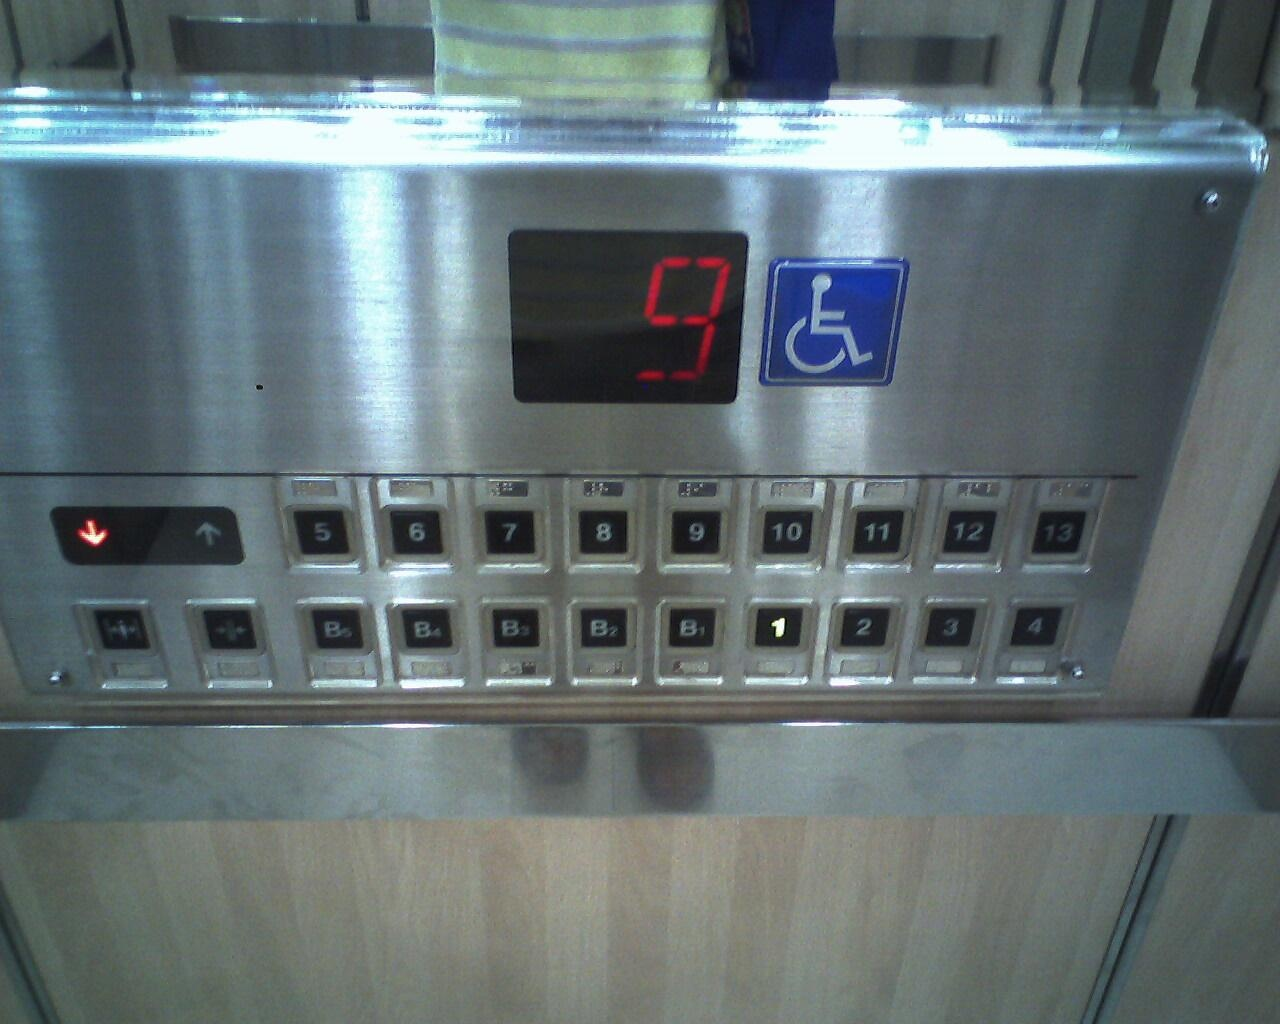1: (753, 605, 804, 649)
10: (758, 506, 816, 556)
11: (850, 506, 905, 555)
12: (940, 507, 997, 555)
13: (1027, 508, 1090, 556)
2: (839, 605, 890, 648)
3: (922, 604, 977, 648)
4: (1007, 603, 1066, 648)
5: (290, 507, 352, 556)
6: (387, 506, 443, 555)
7: (481, 506, 536, 555)
8: (575, 506, 630, 556)
9: (668, 506, 724, 556)
B1: (666, 604, 717, 649)
B2: (577, 606, 628, 648)
B3: (489, 606, 542, 648)
B4: (399, 606, 453, 648)
B5: (309, 605, 365, 650)
CH: (763, 257, 909, 385)
close: (199, 605, 258, 650)
led: (509, 229, 747, 405), (48, 505, 243, 567)
open: (89, 606, 152, 653)
